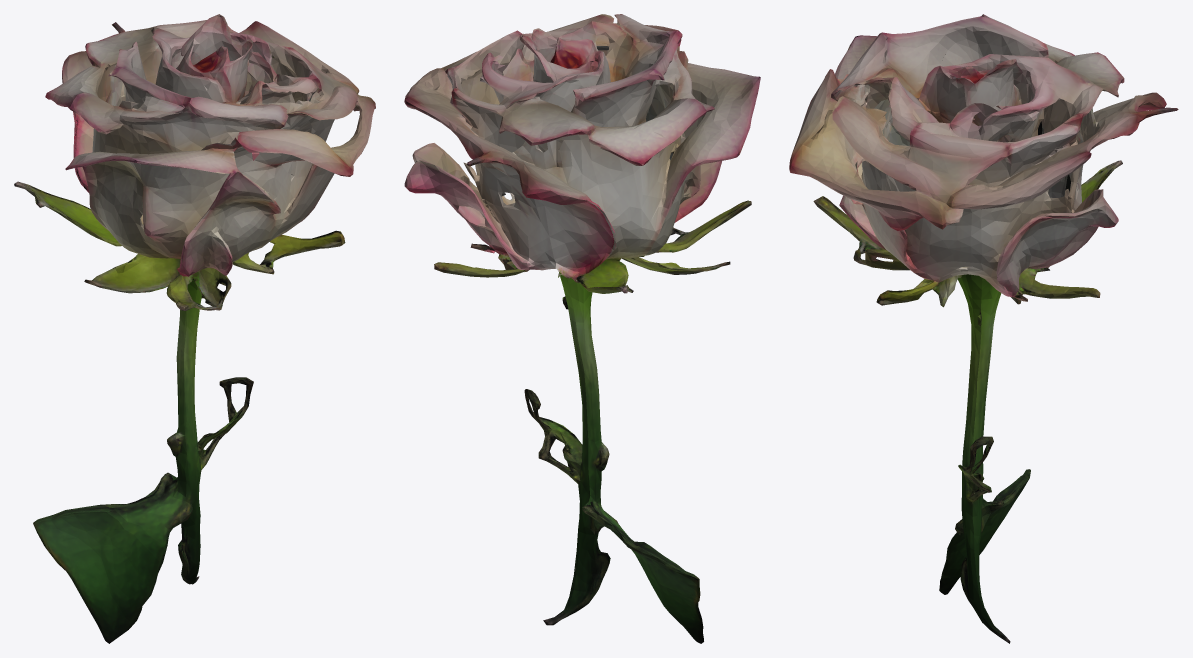
3 views of the same model, side by side, from view 1: azimuth 30°, elevation 25°; view 2: azimuth 150°, elevation 25°; view 3: azimuth 270°, elevation 25° (orthographic). The views are drawn at different scales.
Visible parts, largest first — view 1: world; view 2: world; view 3: world.
Part boxes in pixels (box(x1,y1,x2,y2)): world: box(14, 14, 375, 643); world: box(404, 14, 760, 643); world: box(789, 14, 1178, 643).
Bounding box in the file's own units: 0.5543 × 0.9915 × 0.5747.
1 material, 1 textured.
